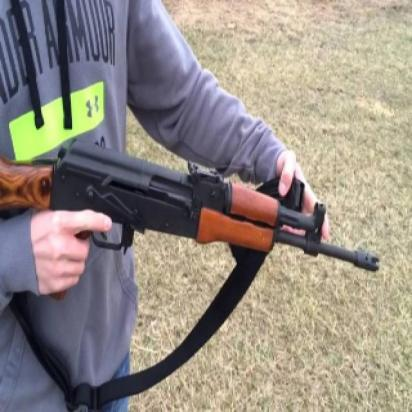Gun: (0, 132, 379, 275)
